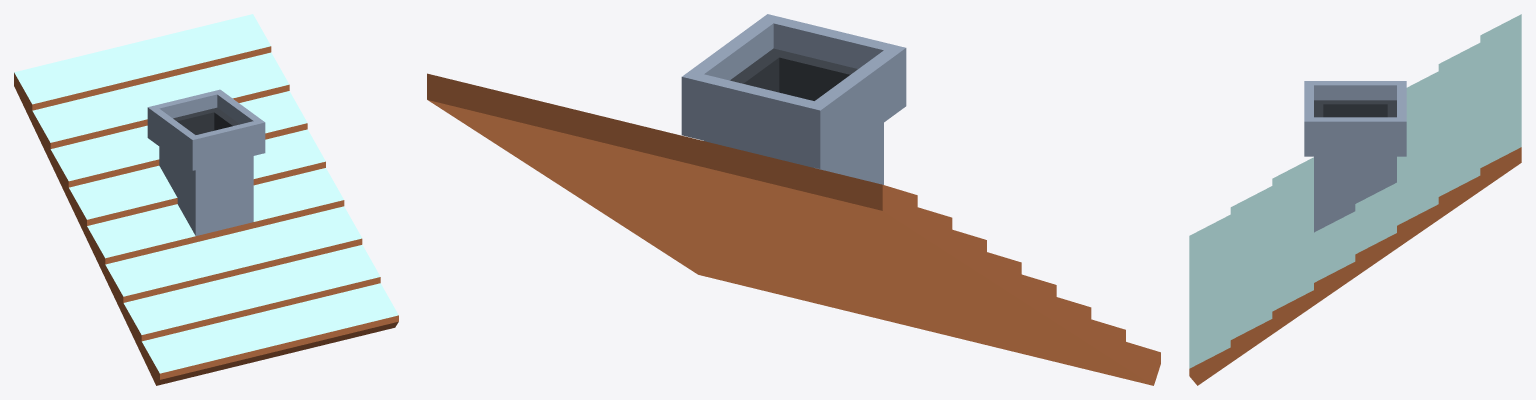
File: cabinRoofChimney.fbx
3 renders of one model, left to right at view 1: azimuth 30°, elevation 25°; view 2: azimuth 150°, elevation 25°; view 3: azimuth 270°, elevation 25°, orthographic. The views are drawn at different scales.
Parts seen in each view (by area): view 1: cabinRoofChimney; view 2: cabinRoofChimney; view 3: cabinRoofChimney.
Boxes of the visible parts, <box> form: cabinRoofChimney: <box>14,14,398,385</box>; cabinRoofChimney: <box>427,14,1160,385</box>; cabinRoofChimney: <box>1189,14,1521,385</box>.
Size of the model in its own units: 11.4 by 9.56 by 12.05.
